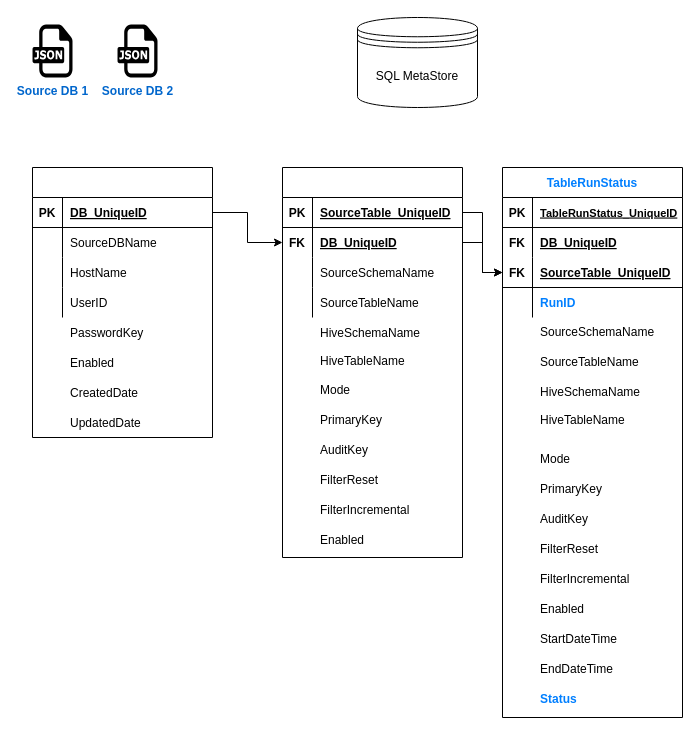
Some shapes in this 700 by 735 pixel diagram are drawn without their labels. The box of each missing label's shape, as (x1, y1, x2, y2) in pixels:
SourceDatabases: (32, 166, 212, 438)
SourceTables: (282, 166, 462, 558)
